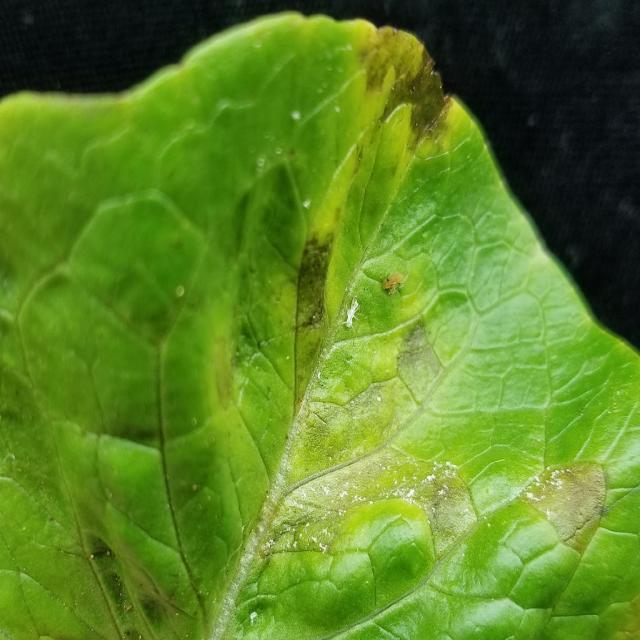Sick Lettuce: (3, 11, 635, 635), (273, 84, 631, 632)
